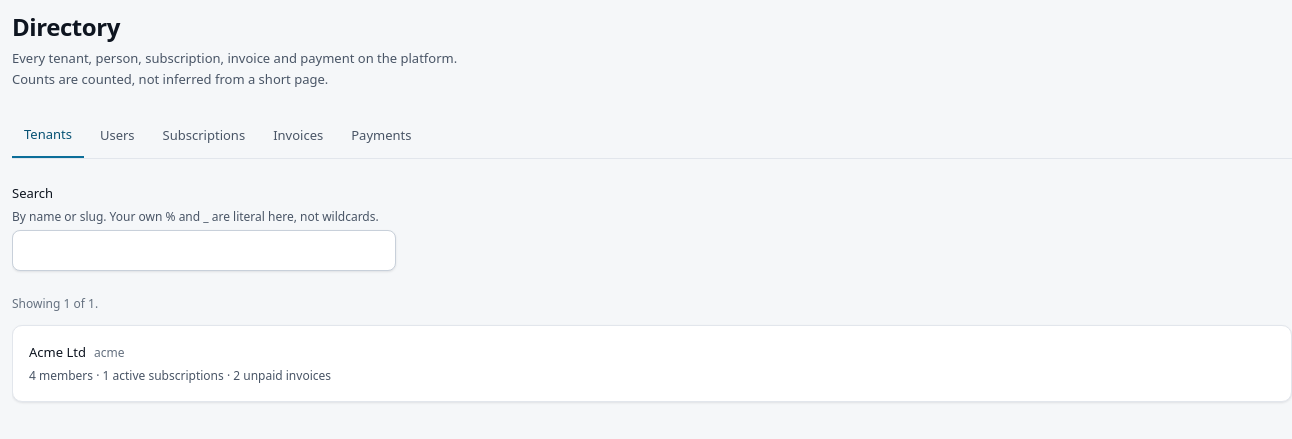
Test: a payment in the console › is reachable by a link, like every other listing
Expected: the text "Acme Ltd" is shown, [29,342,86,363]
Step 1. Click the button "payments" → click(381, 136), box [339,114,423,158]
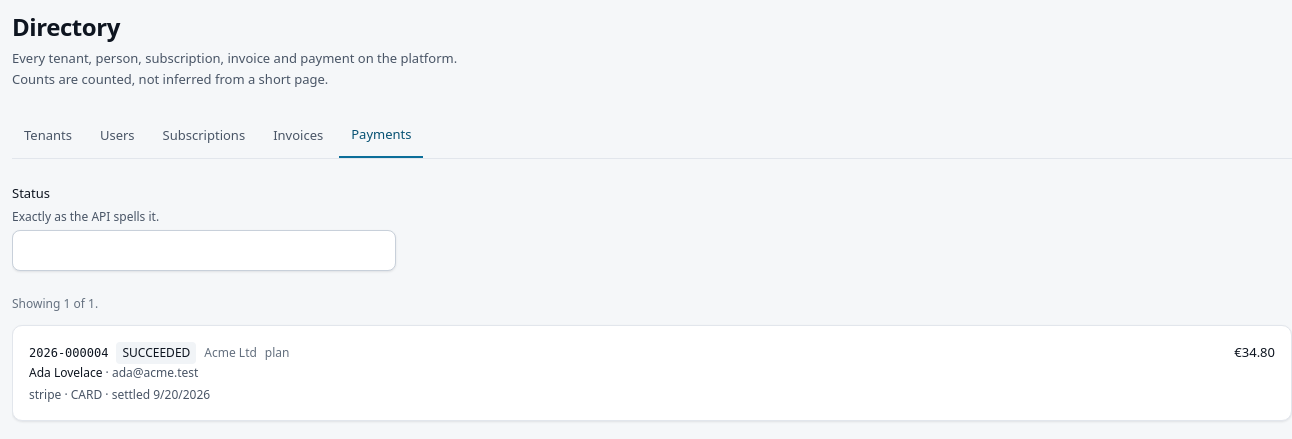
Now the text "2026-000004" is shown, box [29,344,108,362]
